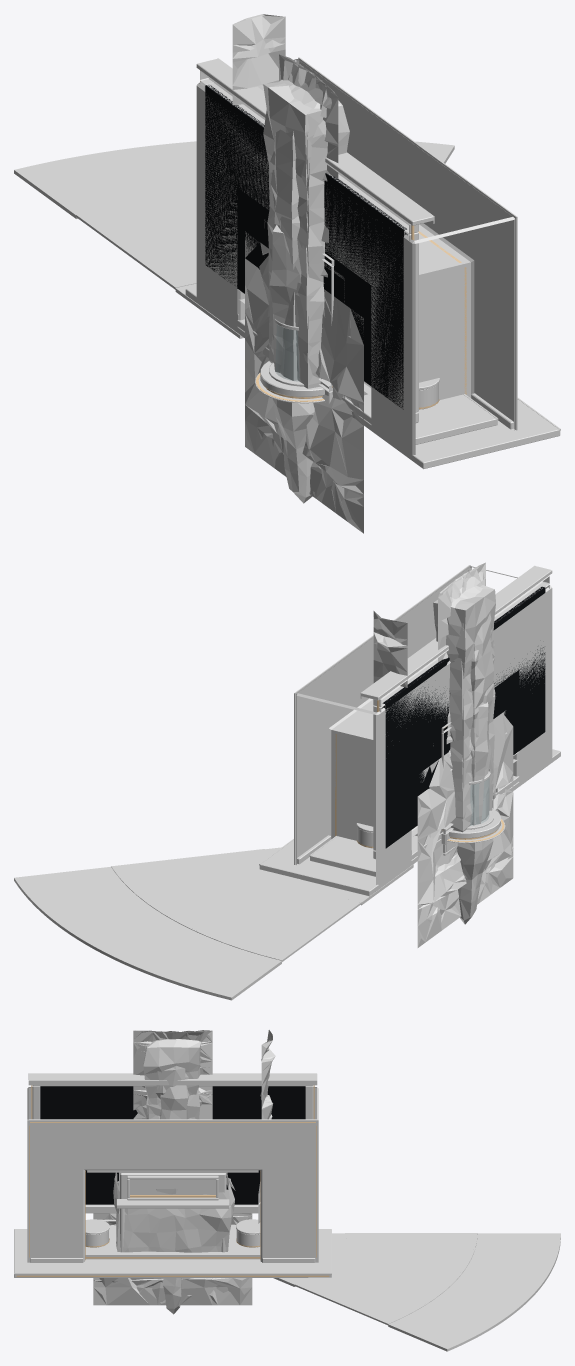
File: Market.fbx
3 renders of one model, top to bottom at view 1: azimuth 30°, elevation 25°; view 2: azimuth 150°, elevation 25°; view 3: azimuth 270°, elevation 25°, orthographic. The views are drawn at different scales.
Visible parts, largest first — view 1: MarketPortal_Frame, BattlePassWall_Backer, MarketRockCeiling_A_Rock, MarketBendFloor_Terrazzo, MarketRunnerBend_Oak, MarketRockSlab_B_Rock, BattlePassWall_Step1, MarketRockSlab_C_Rock, MarketRockPillar_A_Rock, BattlePassWall_Hood, BattlePassWall_Step2, MarketRockCore_B_Rock (+9 smaller); view 2: MarketPortal_Frame, MarketBendFloor_Terrazzo, MarketRunnerBend_Oak, BattlePassWall_Backer, MarketRockCeiling_A_Rock, MarketRockSlab_B_Rock, MarketRockSlab_C_Rock, BattlePassWall_Step1, BattlePassWall_Hood, MarketRockPillar_A_Rock, BattlePassWall_Step2, MarketRockCore_A_Rock (+10 smaller); view 3: MarketPortal_Frame, MarketBendFloor_Terrazzo, MarketRunnerBend_Oak, BattlePassWall_Backer, BattlePassWall_Step1, MarketRockHood_Rock, BattlePassWall_Hood, MarketRockCeiling_B_Rock, MarketRockSlab_B_Rock, MarketPortal_GapReturn, MarketRockCeiling_A_Rock, BattlePassWall_Step2 (+20 smaller).
Boxes of the visible parts, bbox=[...] form: MarketPortal_Frame: bbox=[196, 59, 515, 458]; BattlePassWall_Backer: bbox=[205, 85, 407, 409]; MarketRockCeiling_A_Rock: bbox=[245, 231, 363, 533]; MarketBendFloor_Terrazzo: bbox=[14, 141, 454, 338]; MarketRunnerBend_Oak: bbox=[79, 196, 196, 286]; MarketRockSlab_B_Rock: bbox=[269, 79, 349, 388]; BattlePassWall_Step1: bbox=[185, 286, 560, 469]; MarketRockSlab_C_Rock: bbox=[263, 82, 323, 388]; MarketRockPillar_A_Rock: bbox=[269, 151, 301, 380]; BattlePassWall_Hood: bbox=[196, 58, 434, 225]; BattlePassWall_Step2: bbox=[205, 297, 497, 447]; MarketRockCore_B_Rock: bbox=[232, 15, 285, 105]; MarketPortal_Frame: bbox=[296, 566, 552, 887]; MarketBendFloor_Terrazzo: bbox=[14, 847, 413, 1000]; MarketRunnerBend_Oak: bbox=[113, 849, 359, 959]; BattlePassWall_Backer: bbox=[382, 586, 545, 848]; MarketRockCeiling_A_Rock: bbox=[417, 713, 513, 942]; MarketRockSlab_B_Rock: bbox=[433, 585, 495, 832]; MarketRockSlab_C_Rock: bbox=[452, 589, 495, 824]; BattlePassWall_Step1: bbox=[259, 749, 560, 896]; BattlePassWall_Hood: bbox=[360, 565, 552, 700]; MarketRockPillar_A_Rock: bbox=[470, 650, 493, 825]; BattlePassWall_Step2: bbox=[310, 758, 544, 876]; MarketRockCore_A_Rock: bbox=[373, 611, 407, 687]; MarketPortal_Frame: bbox=[27, 1087, 318, 1262]; MarketBendFloor_Terrazzo: bbox=[273, 1233, 560, 1351]; MarketRunnerBend_Oak: bbox=[295, 1233, 475, 1324]; BattlePassWall_Backer: bbox=[40, 1086, 305, 1204]; BattlePassWall_Step1: bbox=[14, 1229, 331, 1277]; MarketRockHood_Rock: bbox=[113, 1172, 234, 1252]; BattlePassWall_Hood: bbox=[28, 1073, 317, 1085]; MarketRockCeiling_B_Rock: bbox=[93, 1178, 252, 1305]; MarketRockSlab_B_Rock: bbox=[143, 1039, 201, 1119]; MarketPortal_GapReturn: bbox=[27, 1119, 318, 1262]; MarketRockCeiling_A_Rock: bbox=[94, 1216, 252, 1305]; BattlePassWall_Step2: bbox=[85, 1224, 260, 1259].
Bounding box in the file's own units: 46.41 × 47.54 × 82.6.
